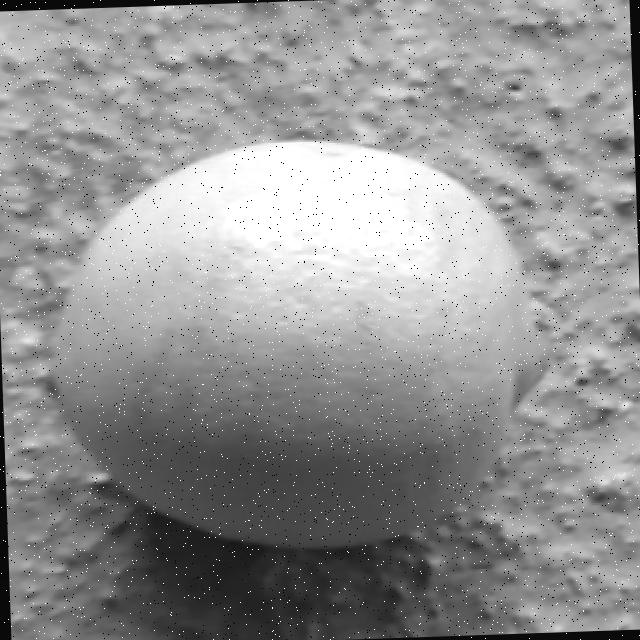Ripe: (24, 122, 559, 563)
